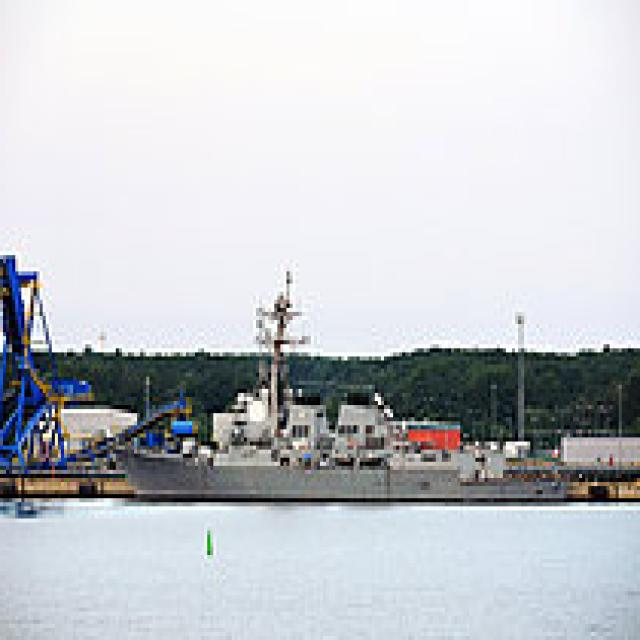Warship: (113, 377, 576, 502)
